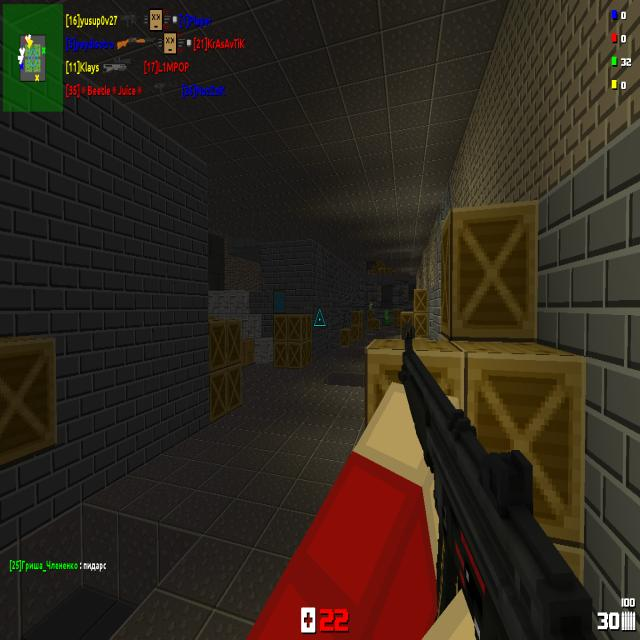enemy: (384, 309, 390, 325), (368, 299, 372, 310)
